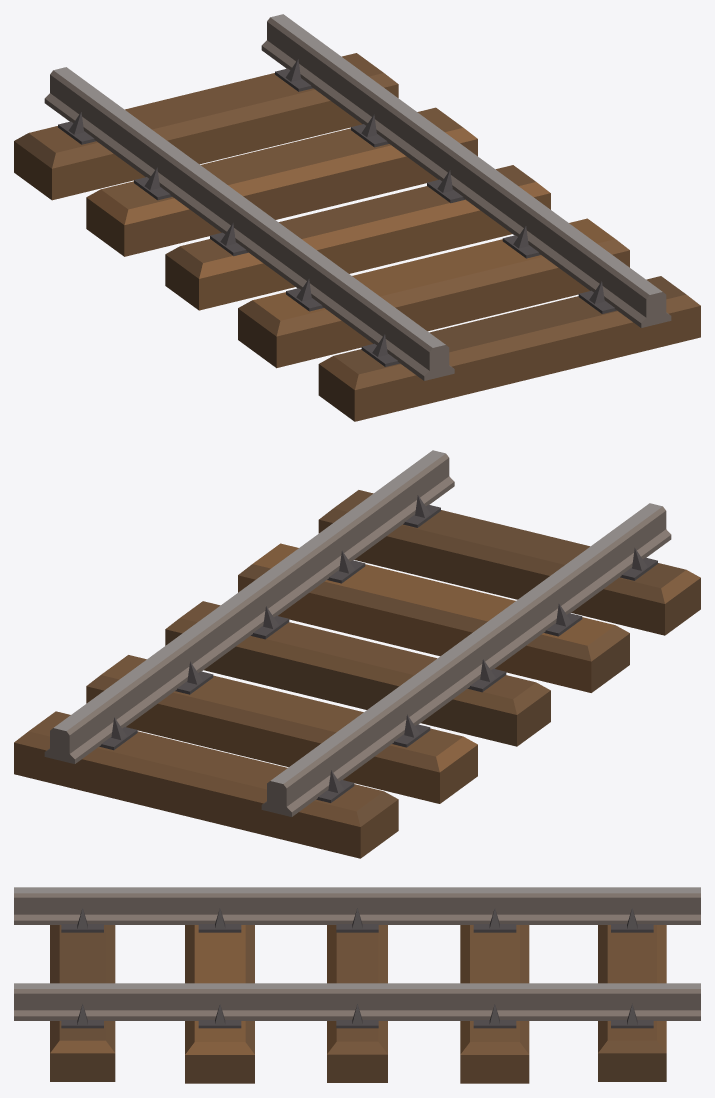
Rendered from mine_rail_track.glb.
3 views of the same model, one above another, from view 1: azimuth 30°, elevation 25°; view 2: azimuth 150°, elevation 25°; view 3: azimuth 270°, elevation 25° (orthographic). The views are drawn at different scales.
Visible parts, largest first — view 1: track-timber, track-iron; view 2: track-timber, track-iron; view 3: track-iron, track-timber.
Part boxes in pixels (x1,y1,x2,y2): track-timber: (14, 53, 700, 421); track-iron: (44, 14, 671, 380); track-timber: (14, 490, 700, 858); track-iron: (44, 450, 671, 816); track-iron: (14, 887, 700, 1028); track-timber: (50, 925, 666, 1083).
Bounding box in the file's own units: 1.08 × 0.216 × 2.
